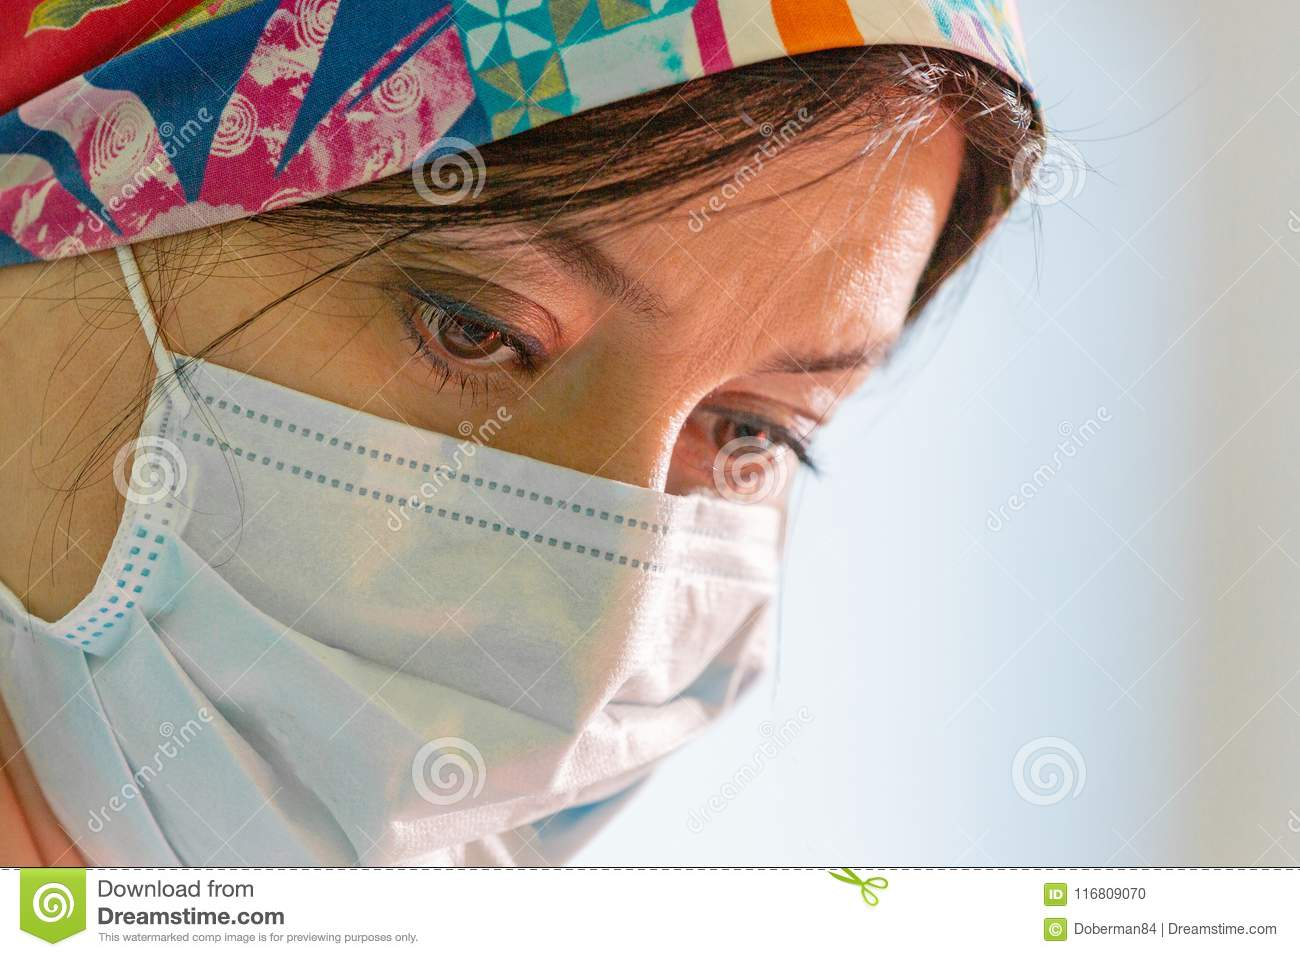mask: (20, 373, 823, 891)
